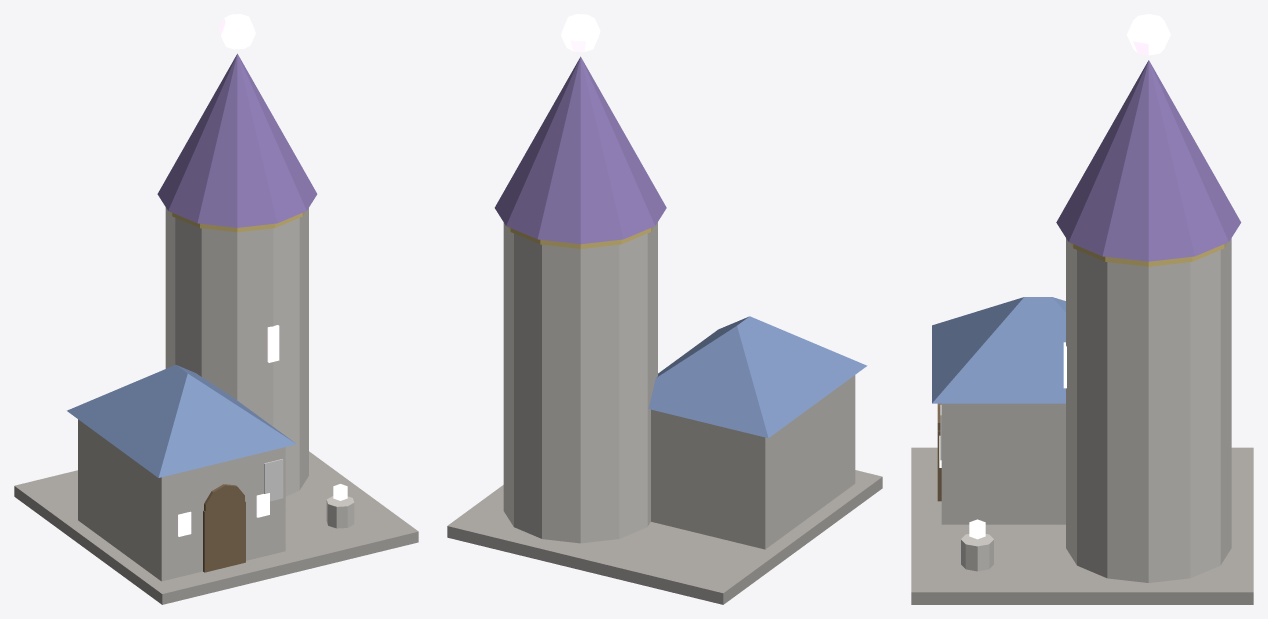
3 views of the same model, side by side, from view 1: azimuth 30°, elevation 25°; view 2: azimuth 150°, elevation 25°; view 3: azimuth 270°, elevation 25° (orthographic). The views are drawn at different scales.
Visible parts, largest first — view 1: body; view 2: body; view 3: body.
Boxes of the visible parts, x1=… form: body: x1=14, y1=14, x2=418, y2=604; body: x1=447, y1=14, x2=882, y2=604; body: x1=911, y1=14, x2=1253, y2=604.
Bounding box in the file's own units: 12.4 × 21.8 × 12.4.
